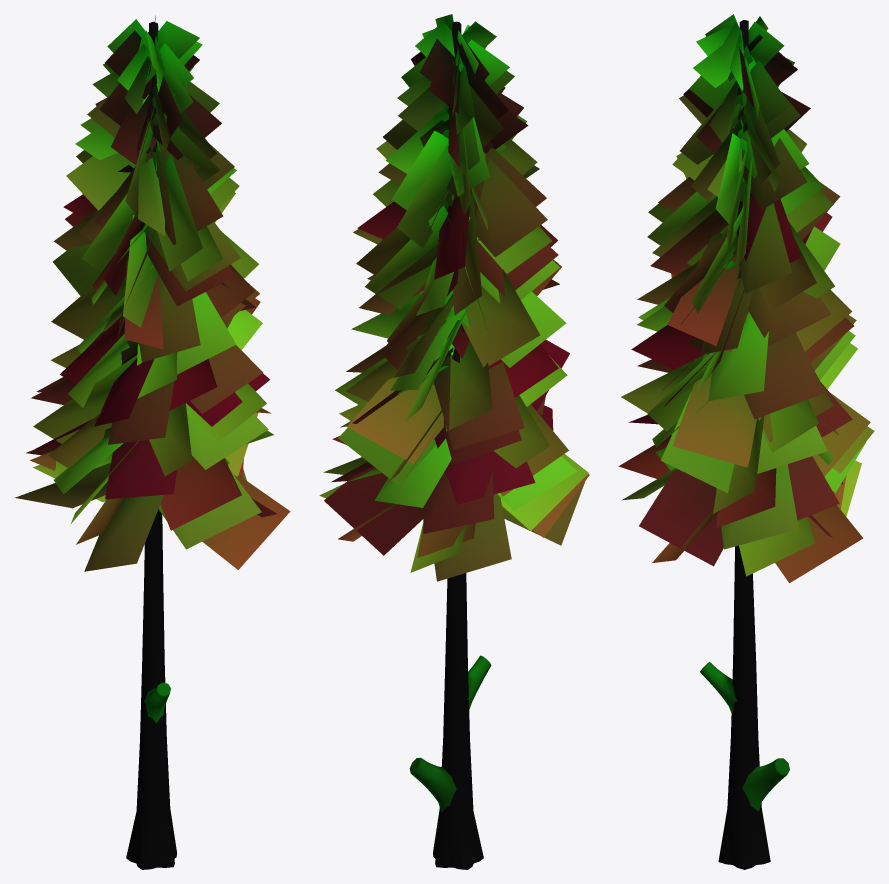
File: M_Pine_2_6.fbx
3 views of the same model, side by side, from view 1: azimuth 30°, elevation 25°; view 2: azimuth 150°, elevation 25°; view 3: azimuth 270°, elevation 25° (orthographic).
Parts seen in each view (by area): view 1: Tree_6; view 2: Tree_6; view 3: Tree_6.
Boxes of the visible parts, x1,y1,x2,y2 form: Tree_6: (15,15,290,869); Tree_6: (319,14,589,869); Tree_6: (618,14,874,869).
Size of the model in its own units: 746 by 2701 by 747.
